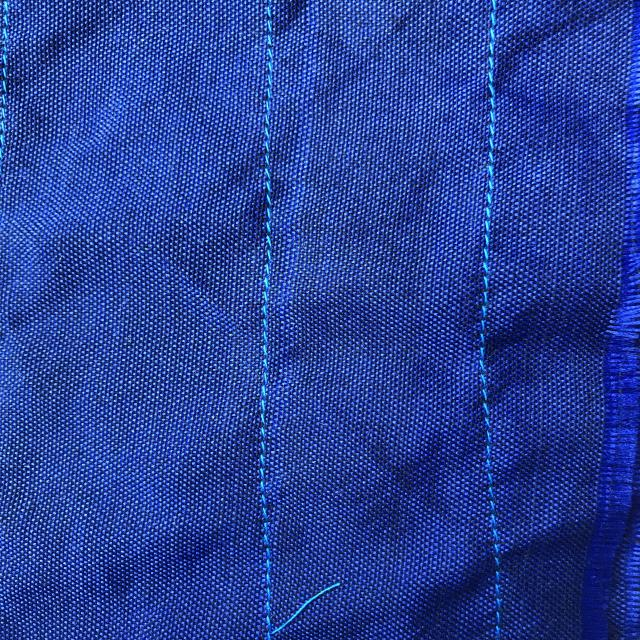good: (471, 216, 501, 432)
